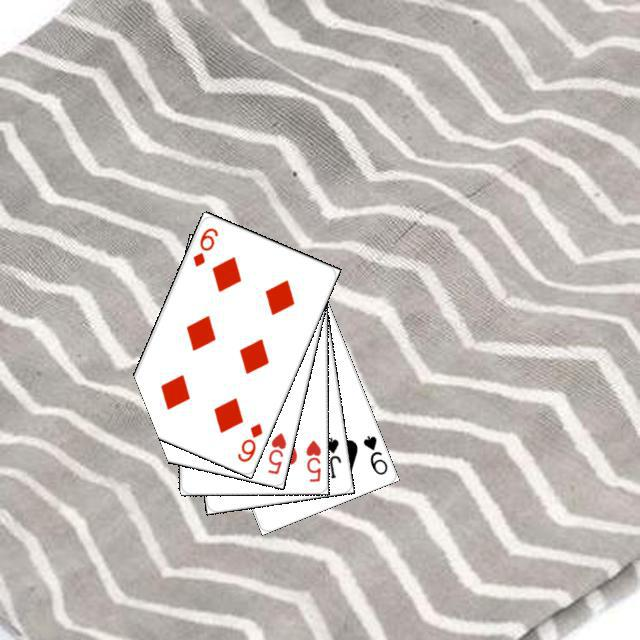5h: (263, 427, 288, 476), (301, 435, 322, 483)
6d: (232, 418, 264, 464), (188, 223, 220, 268)
9s: (358, 431, 389, 476)
Js: (320, 433, 342, 480)
